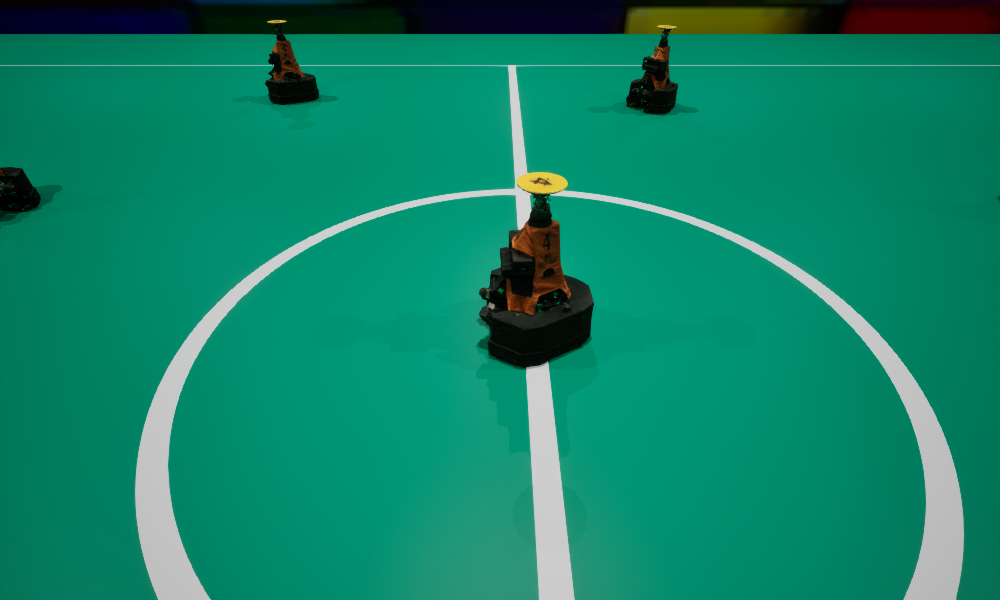o: (479, 172, 593, 367), (626, 25, 677, 113), (265, 20, 318, 103), (0, 167, 40, 212)
